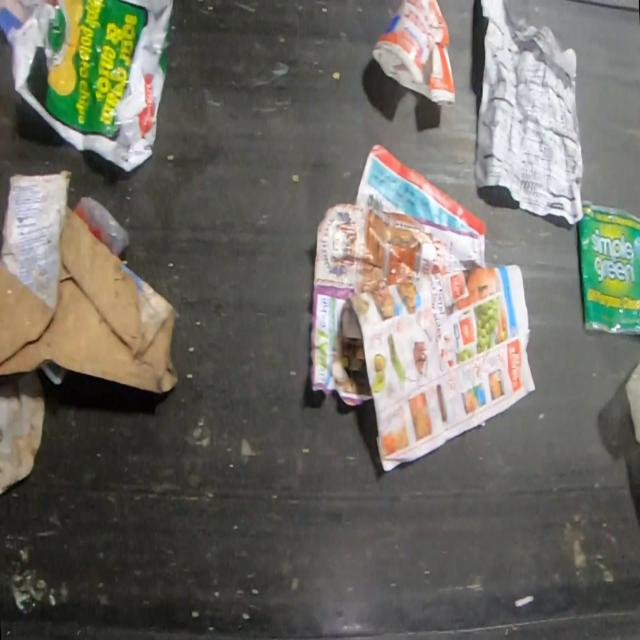cardboard: (0, 172, 178, 394)
rigid_plastic: (371, 0, 456, 104), (72, 195, 131, 256), (38, 360, 63, 387)
soft_plastic: (578, 198, 640, 336), (624, 360, 640, 445)
